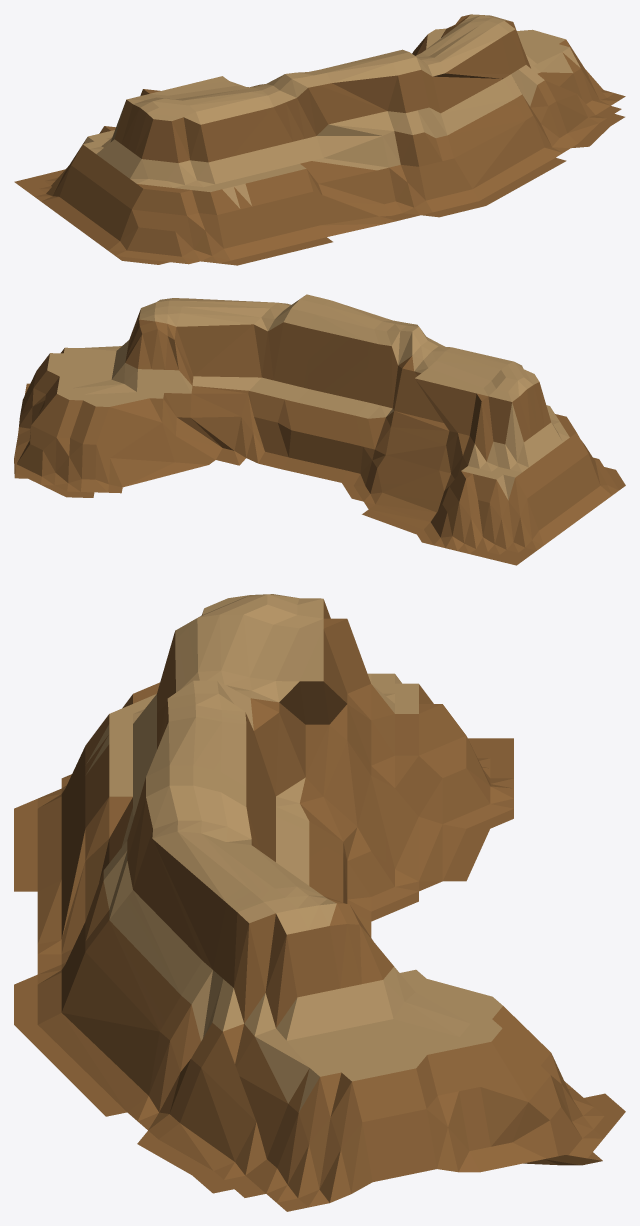
The picture shows the model from 3 angles, top to bottom: view 1: azimuth 30°, elevation 25°; view 2: azimuth 150°, elevation 25°; view 3: azimuth 270°, elevation 25°; orthographic projection. The views are drawn at different scales.
Parts seen in each view (by area): view 1: Mountain2; view 2: Mountain2; view 3: Mountain2.
Part boxes in pixels (x1,y1,x2,y2): Mountain2: [14, 14, 625, 265]; Mountain2: [14, 294, 625, 565]; Mountain2: [14, 594, 625, 1211].
Size of the model in its own units: 879 by 205 by 482.
